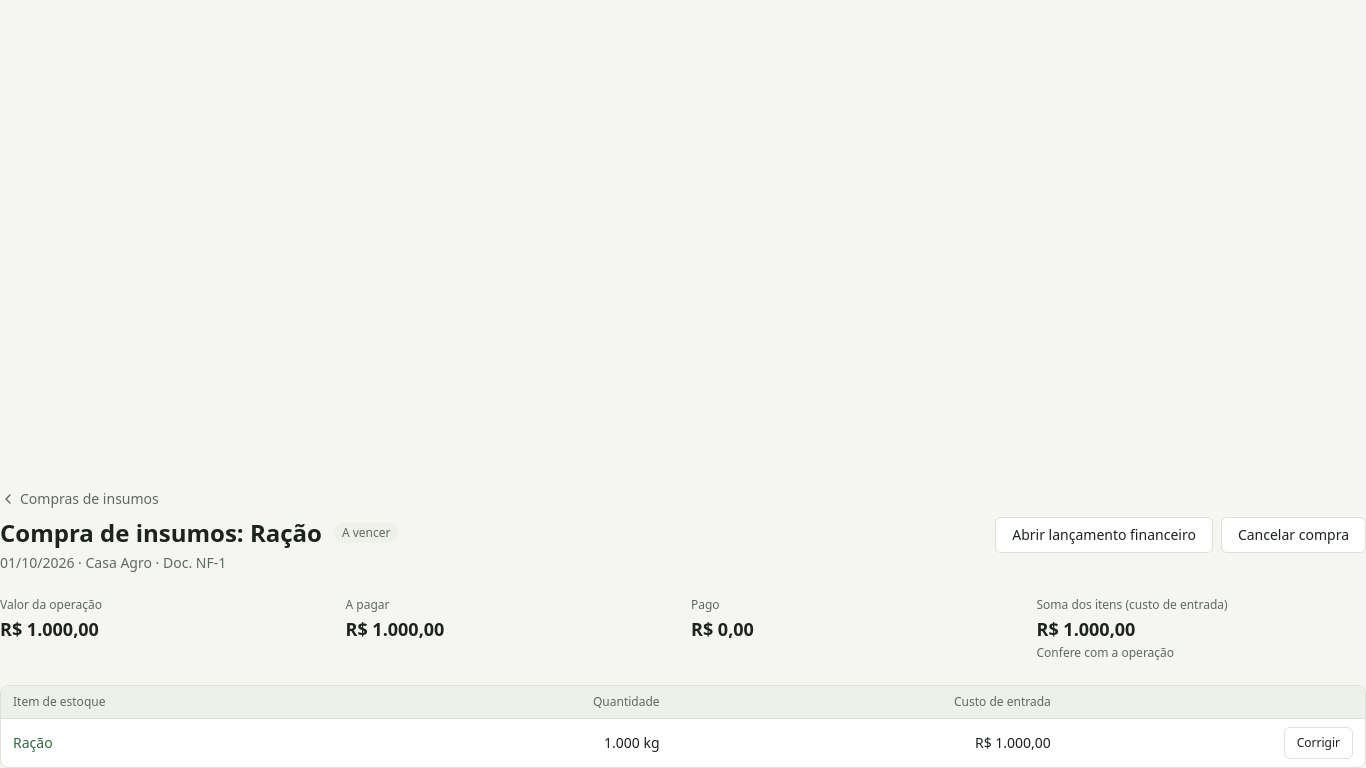
Scenario: detalhe da compra de insumos › corrigir mostra o novo total e exige o motivo; correção sem parcelas novas é recusada pela tela quando o total muda
(page scrolled)
Click the button "Corrigir": (1318, 743) x1=1284 y1=727 x2=1353 y2=759
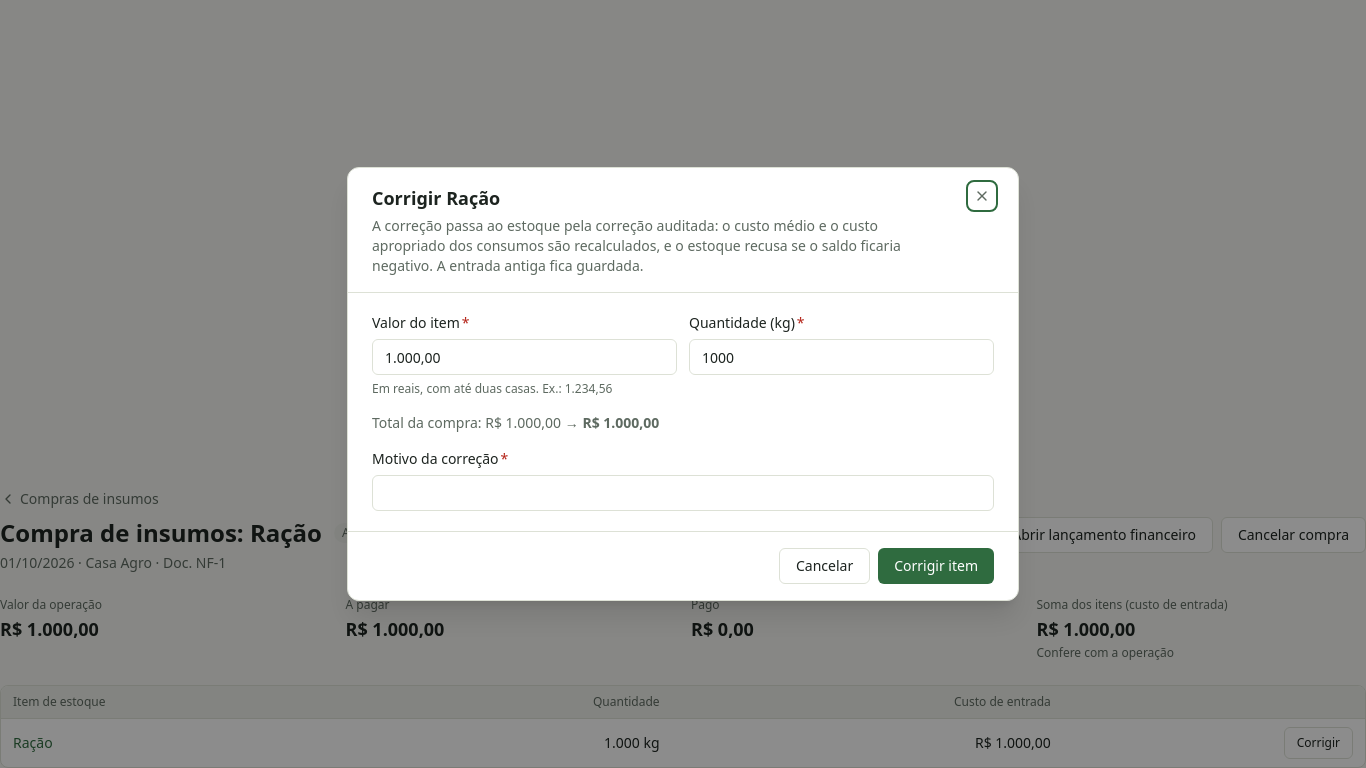
Replace the text in the field labelled "Valor do item*" with "1.200,00": (524, 357) x1=372 y1=339 x2=677 y2=375
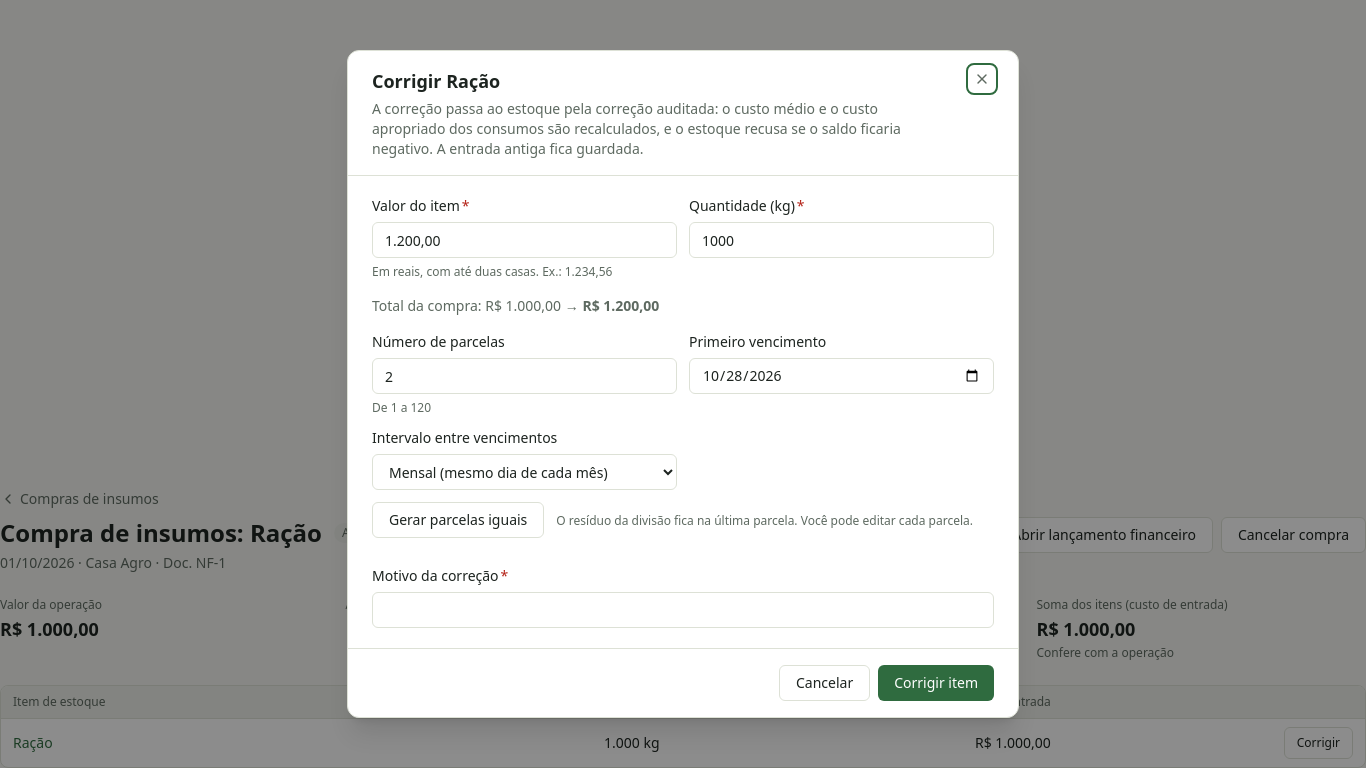
Check: the element with test id "resumo-correcao" reads "Total da compra: R$ 1.000,00 → R$ 1.200,00", box x1=582 y1=296 x2=659 y2=315
Click the button "Corrigir item": (936, 683) x1=878 y1=665 x2=994 y2=701
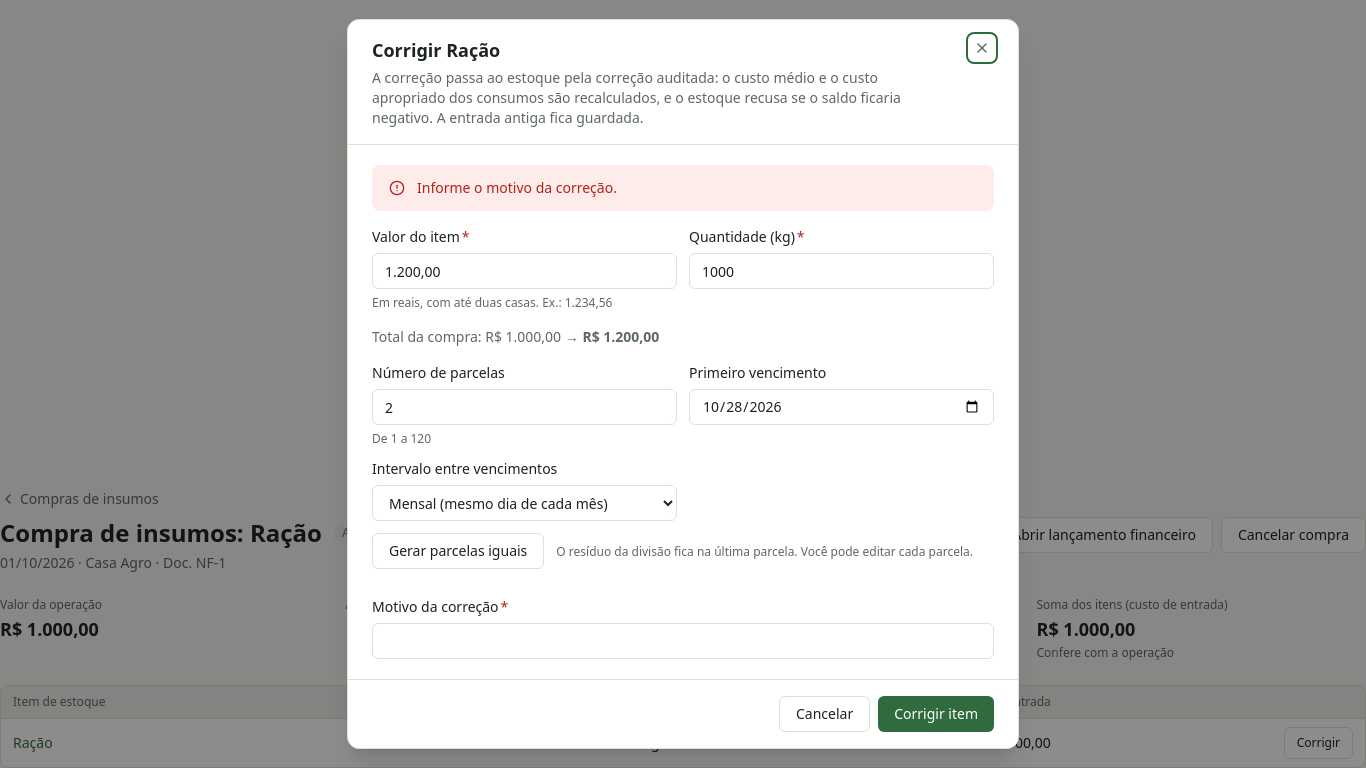
Check: the text "Informe o motivo da correção." is shown, box x1=417 y1=178 x2=617 y2=198
